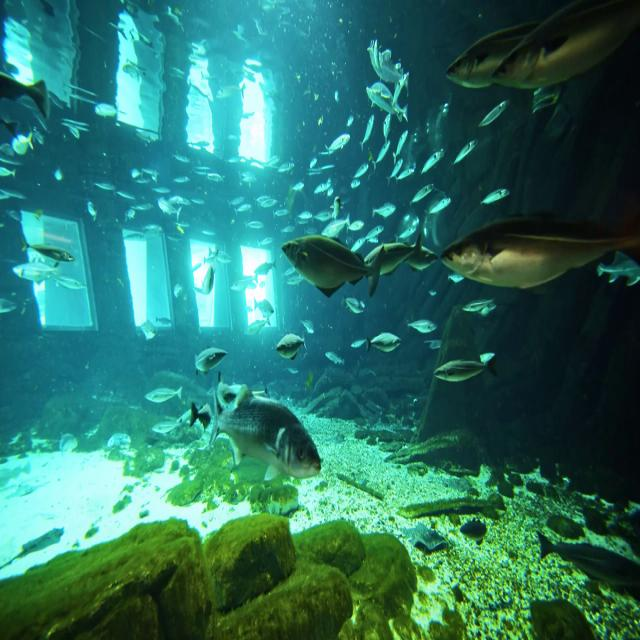fish: (439, 208, 640, 300), (488, 0, 628, 89), (208, 384, 326, 476), (275, 237, 385, 293), (444, 23, 509, 90), (367, 217, 429, 287), (429, 346, 500, 398), (10, 227, 86, 263), (591, 251, 640, 295), (366, 80, 414, 122), (139, 374, 188, 414), (360, 323, 404, 367), (274, 317, 314, 361), (8, 255, 54, 288), (191, 342, 228, 380), (336, 296, 376, 322), (401, 316, 439, 340), (197, 260, 215, 308), (248, 290, 277, 316)
